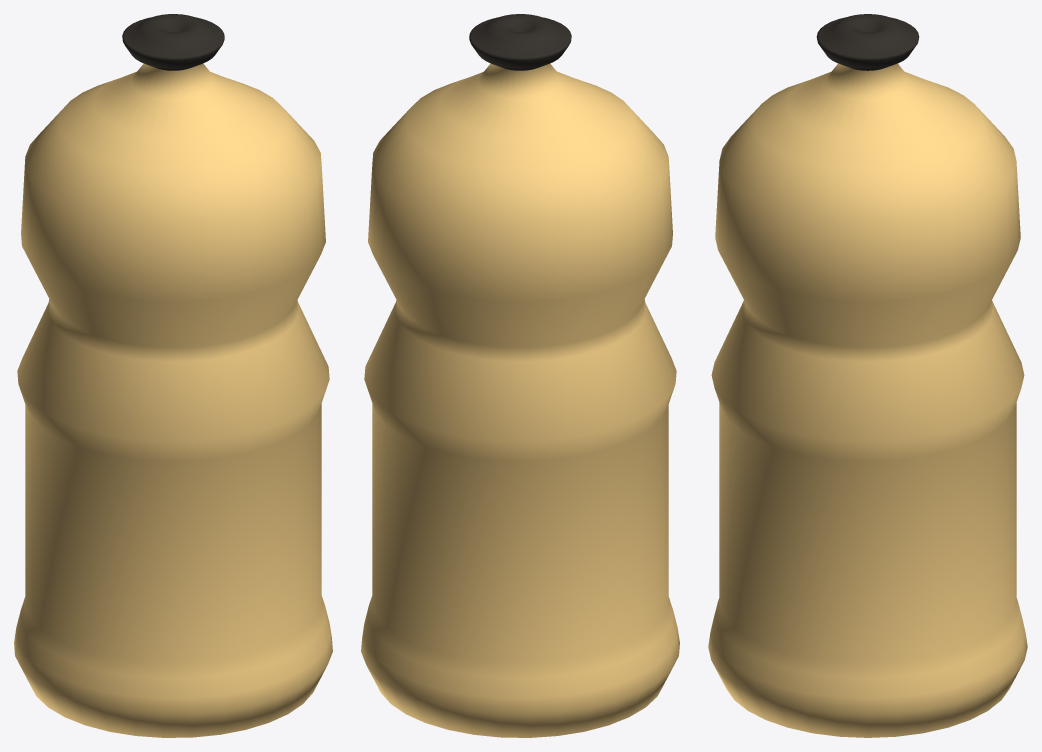
Rendered from bottle43.glb.
3 renders of one model, left to right at view 1: azimuth 30°, elevation 25°; view 2: azimuth 150°, elevation 25°; view 3: azimuth 270°, elevation 25°, orthographic.
Parts seen in each view (by area): view 1: Bottle43; view 2: Bottle43; view 3: Bottle43.
Boxes of the visible parts, x1=… form: Bottle43: x1=14, y1=14, x2=332, y2=737; Bottle43: x1=361, y1=14, x2=679, y2=737; Bottle43: x1=708, y1=14, x2=1027, y2=737.
Bounding box in the file's own units: 1.47 × 3.32 × 1.47.
